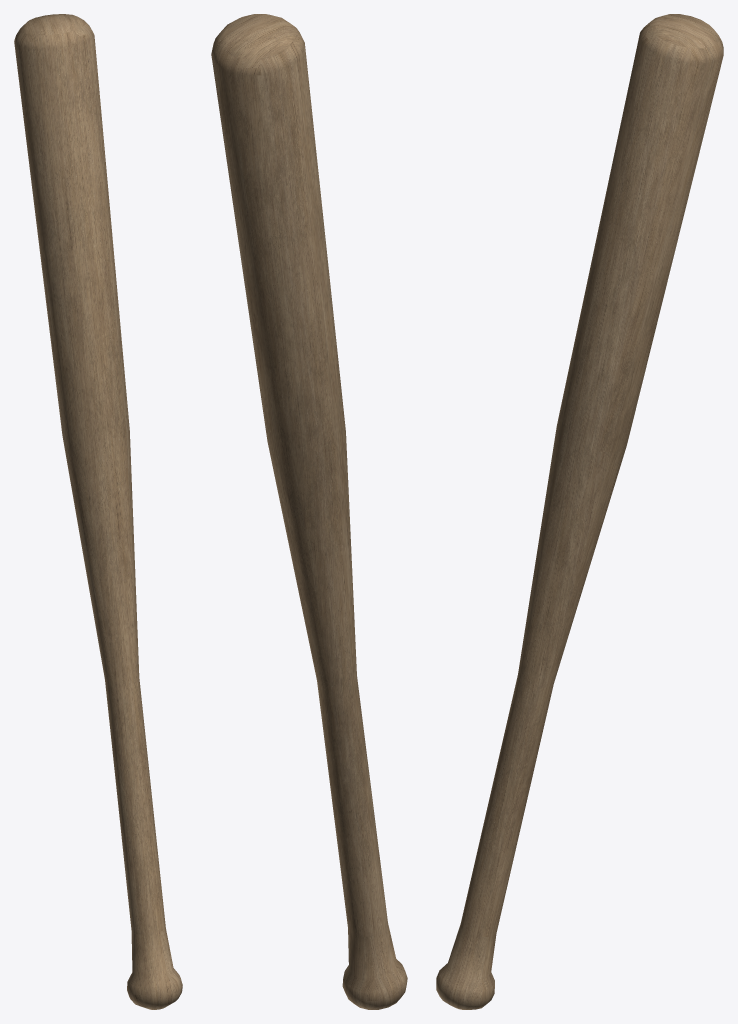
File: bate.obj
The picture shows the model from 3 angles, left to right: view 1: azimuth 30°, elevation 25°; view 2: azimuth 150°, elevation 25°; view 3: azimuth 270°, elevation 25°; orthographic projection. The views are drawn at different scales.
Visible parts, largest first — view 1: Cilindro_001; view 2: Cilindro_001; view 3: Cilindro_001.
Boxes of the visible parts, x1,y1,x2,y2 form: Cilindro_001: (14,14,182,1009); Cilindro_001: (211,14,407,1009); Cilindro_001: (436,14,723,1009).
Bounding box in the file's own units: 0.3436 × 4.37 × 1.16.
